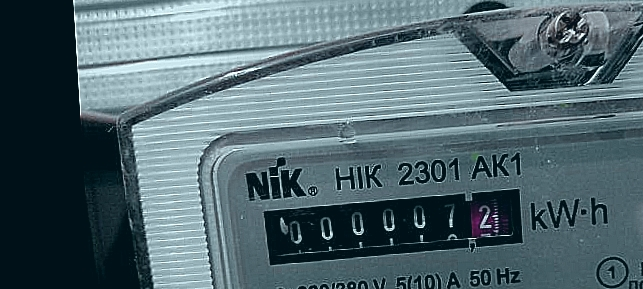0: (285, 216, 304, 244), (378, 205, 397, 233), (348, 208, 365, 237), (410, 202, 427, 231), (317, 212, 334, 240)
2: (476, 203, 493, 230)
7: (441, 199, 458, 230)
screen: (251, 181, 535, 270)
